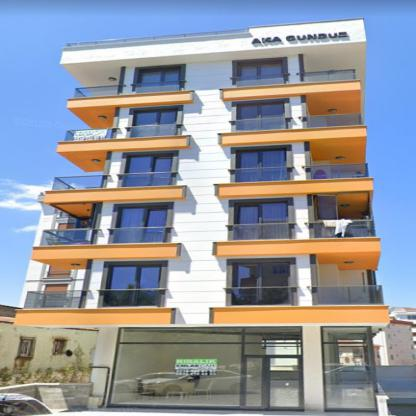door: (266, 356, 302, 410)
window: (108, 327, 300, 407), (322, 327, 377, 411), (104, 266, 162, 288), (234, 263, 290, 285), (117, 207, 172, 228), (239, 201, 290, 222), (121, 152, 172, 172), (238, 148, 288, 168), (131, 66, 177, 82), (238, 60, 280, 76), (237, 102, 280, 116), (131, 111, 177, 123), (18, 339, 32, 357), (53, 339, 64, 354)
